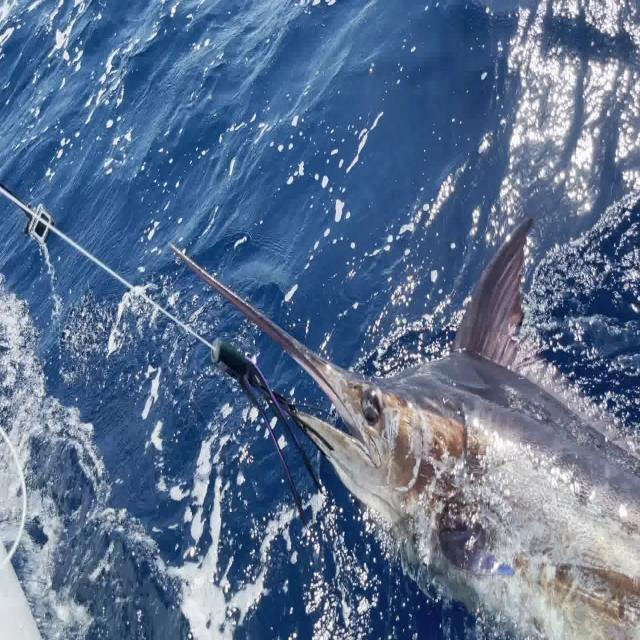Liberacion segura: (167, 215, 639, 640)
